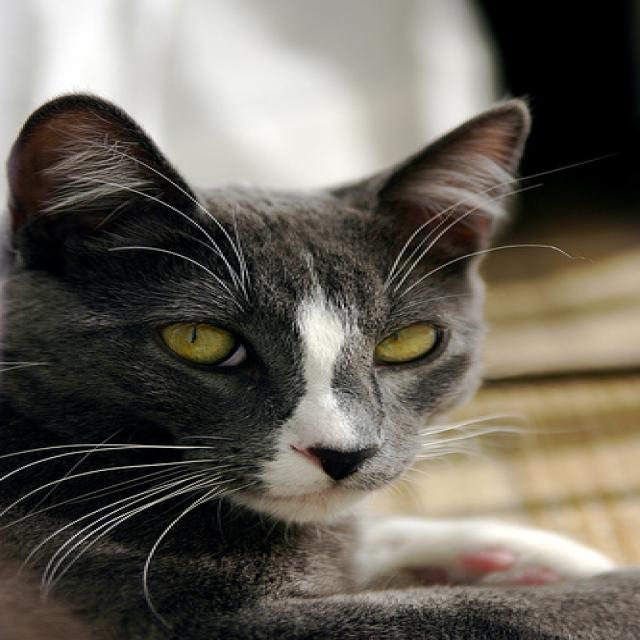cat: (1, 90, 629, 638)
